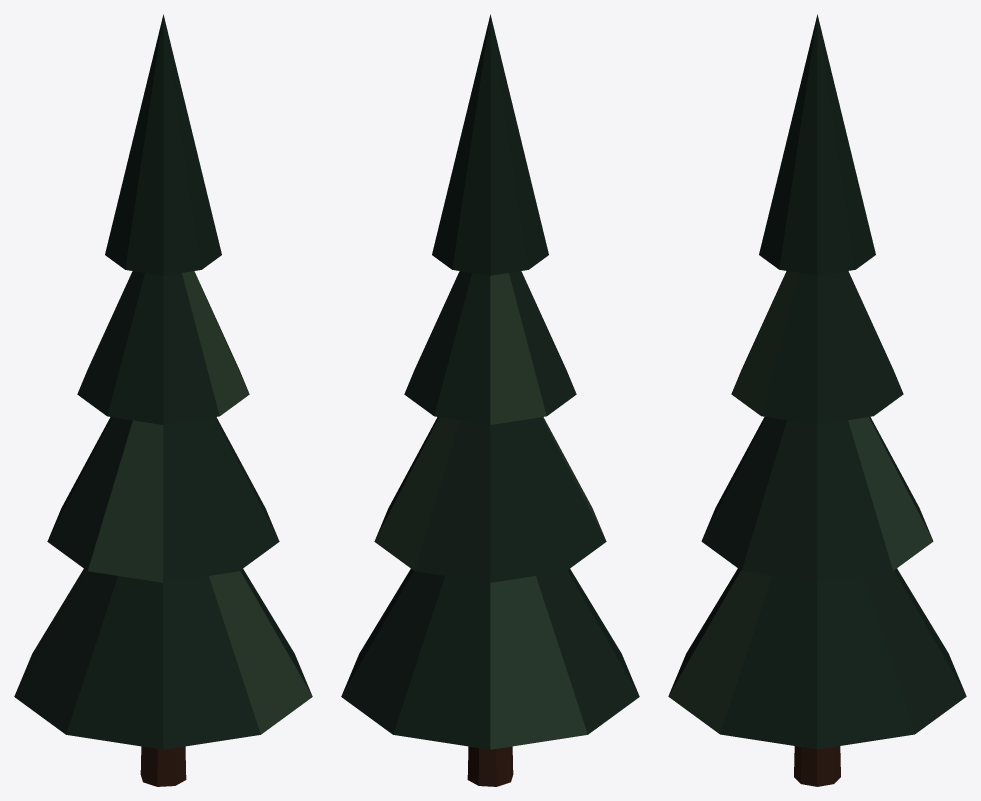
Rendered from Tree_Pine_01.fbx.
3 renders of one model, left to right at view 1: azimuth 30°, elevation 25°; view 2: azimuth 150°, elevation 25°; view 3: azimuth 270°, elevation 25°, orthographic.
Parts seen in each view (by area): view 1: Tree_Pine_01_Foliage, Tree_Pine_01_Trunk; view 2: Tree_Pine_01_Foliage, Tree_Pine_01_Trunk; view 3: Tree_Pine_01_Foliage, Tree_Pine_01_Trunk.
Part boxes in pixels (x1,y1,x2,y2): Tree_Pine_01_Foliage: (14,14,312,749); Tree_Pine_01_Trunk: (140,746,186,786); Tree_Pine_01_Foliage: (341,14,639,749); Tree_Pine_01_Trunk: (467,746,513,786); Tree_Pine_01_Foliage: (668,14,966,749); Tree_Pine_01_Trunk: (794,746,840,786).
Size of the model in its own units: 2.09 by 6 by 2.13.
Materials: 1 (1 with a texture image).
